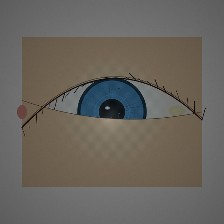pinguecula_lesion: (160, 97, 194, 124)
